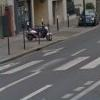Motorcycle: (17, 19, 57, 46)
